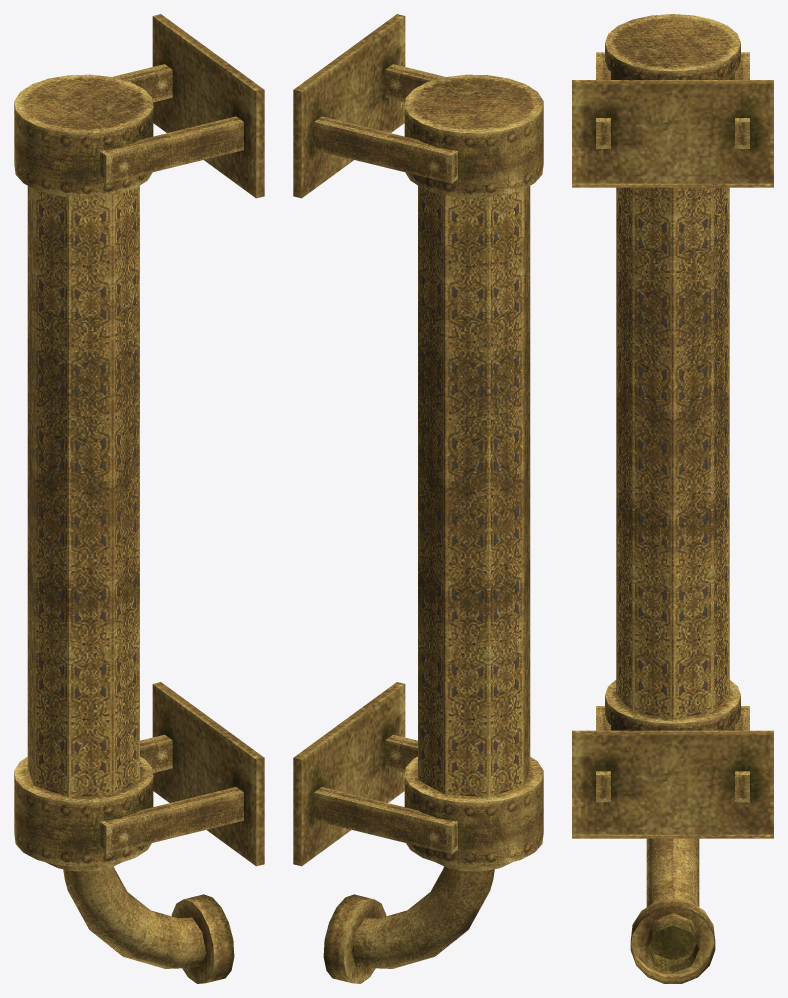
Rendered from pigline_lamp.DAE.
3 views of the same model, side by side, from view 1: azimuth 30°, elevation 25°; view 2: azimuth 150°, elevation 25°; view 3: azimuth 270°, elevation 25° (orthographic). The views are drawn at different scales.
Parts seen in each view (by area): view 1: pigline_lamp; view 2: pigline_lamp; view 3: pigline_lamp.
Part boxes in pixels (x1=…): pigline_lamp: x1=14, y1=14, x2=264, y2=983; pigline_lamp: x1=293, y1=14, x2=543, y2=983; pigline_lamp: x1=572, y1=14, x2=773, y2=983.
Size of the model in its own units: 0.2823 by 0.2674 by 1.32.
